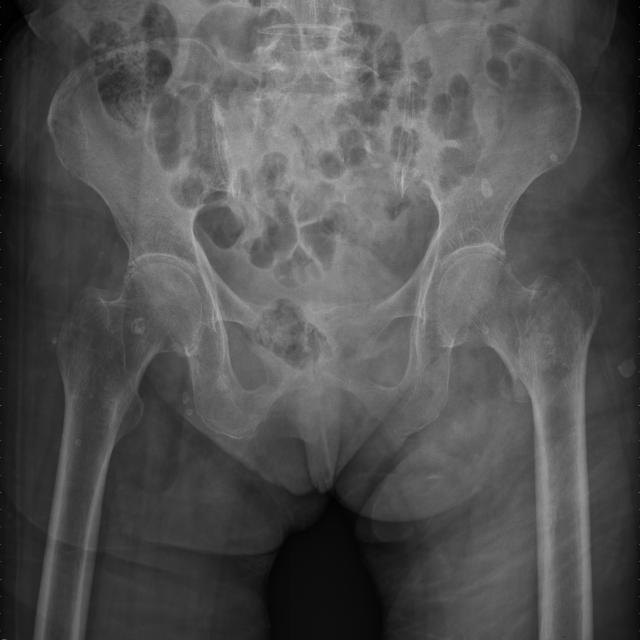left-intertrochanteric: (498, 258, 604, 460), (439, 252, 562, 387)
normal-right: (53, 261, 203, 509)
